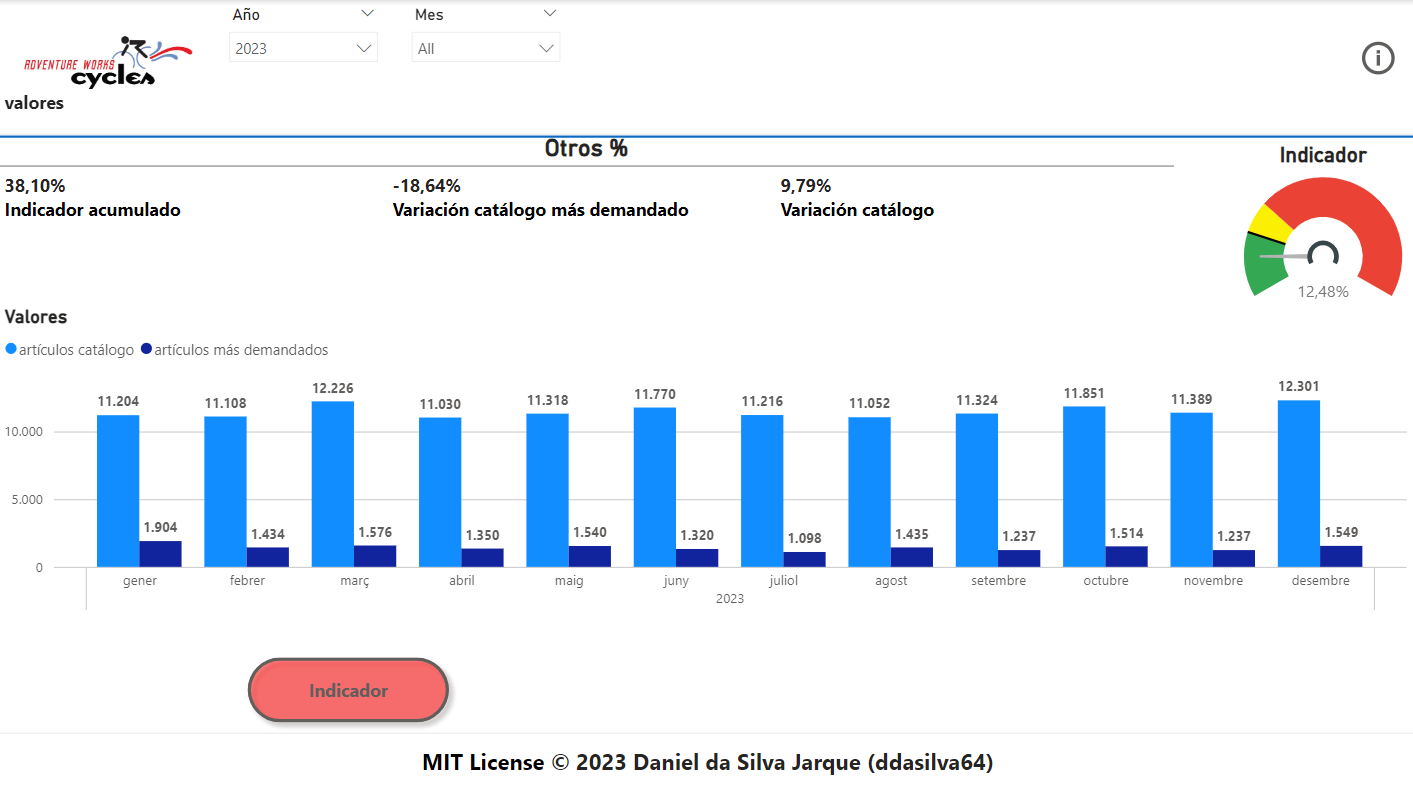

Layout of this report page (visuals, bound fields, positions):
{"tool":"powerbi","page":{"name":"Porcentajes","canvas":[1280,720],"ordinal":0},"visuals":[{"type":"image","title":"imgLogo","box":[0,0,198,119],"z":0,"group":"g5"},{"type":"shape","title":"shpLinia","box":[0,118,1280,12],"z":0,"group":"g7"},{"type":"eaTachometer6616D82ED23A4C048E1D3CD4604742ED","title":"Indicador","fields":{"EndValue":["Metrics.LTV Max"],"Range2StartValue":["Metrics.LTV rang 1"],"Range3StartValue":["Metrics.LTV rang 2"],"Range4StartValue":["Metrics.LTV rang 3"],"TargetValue":["Metrics.LTV target"],"Y":["Metrics.Media Indicador"]},"box":[1114.1,129,166,161.6],"z":0,"group":"g8"},{"type":"group","id":"g1","title":"Bottons","box":[216,585.6,847.2,78.1],"z":0,"group":"g4"},{"type":"group","id":"g2","title":"Foot","box":[0,666,1280,52.9],"z":0},{"type":"textbox","title":"txtLlicesncia","box":[0,666,1280,52.9],"z":0,"group":"g2"},{"type":"group","id":"g3","title":"Filtros","box":[362.5,0,154.5,65.1],"z":1000,"group":"g7"},{"type":"group","id":"g4","title":"Body","box":[0,121,1280.1,542.7],"z":1000},{"type":"multiRowCard","title":"Otros %","fields":{"Values":["Metrics.Media indicadox","Metrics.Variación catálogo más demandado","Metrics.Variación catálogo"]},"box":[0,121,1062.5,97],"z":1000,"group":"g8"},{"type":"actionButton","title":"btnGoToValores","box":[864,585.7,199.2,78],"z":1000,"group":"g1"},{"type":"group","id":"g5","title":"Identificacion","box":[0,0,198,119],"z":2000,"group":"g7"},{"type":"group","id":"g6","title":"Filtros","box":[197.5,0,154.5,65.1],"z":2000},{"type":"slicer","fields":{"Values":["DimDates.Exercise"]},"box":[197.5,0,154.5,65.1],"z":2001,"group":"g6"},{"type":"slicer","fields":{"Values":["DimDates.ShortMonth"]},"box":[362.5,0,154.5,65.1],"z":2001,"group":"g3"},{"type":"group","id":"g7","title":"Head","box":[0,0,1280.5,130.1],"z":3000},{"type":"textbox","title":"txtIndicador","box":[0,75.6,197.9,32],"z":3000,"group":"g5"},{"type":"actionButton","box":[1227,32.5,41.8,39.5],"z":4000},{"type":"group","id":"g8","title":"Fix","box":[0,121,1280.1,169.6],"z":7000,"group":"g4"},{"type":"clusteredColumnChart","title":"Indicador","fields":{"Y":["Sum(CSV_HechosAgregado.Indicador)"],"Category":["CSV_HechosAgregado.fecha.Variation.Jerarquia de dates.Any","CSV_HechosAgregado.fecha.Variation.Jerarquia de dates.Mes"]},"box":[0,275.6,1280,289.7],"z":8000,"group":"g4"}]}

Visuals, with their boxes in screenshot pixels (x1, y1, x2, y2), scaled from the page's 1280x720 canvas onto the 1413x796 screenshot:
"imgLogo" image: Rect(0, 0, 219, 132)
"shpLinia" shape: Rect(0, 130, 1412, 144)
"Indicador" eaTachometer6616D82ED23A4C048E1D3CD4604742ED: Rect(1230, 143, 1412, 321)
"Bottons" group: Rect(238, 647, 1174, 734)
"Foot" group: Rect(0, 736, 1412, 795)
"txtLlicesncia" textbox: Rect(0, 736, 1412, 795)
"Filtros" group: Rect(400, 0, 571, 72)
"Body" group: Rect(0, 134, 1412, 734)
"Otros %" multiRowCard: Rect(0, 134, 1173, 241)
"btnGoToValores" actionButton: Rect(954, 648, 1174, 734)
"Identificacion" group: Rect(0, 0, 219, 132)
"Filtros" group: Rect(218, 0, 389, 72)
slicer - DimDates.Exercise: Rect(218, 0, 389, 72)
slicer - DimDates.ShortMonth: Rect(400, 0, 571, 72)
"Head" group: Rect(0, 0, 1412, 144)
"txtIndicador" textbox: Rect(0, 84, 218, 119)
actionButton: Rect(1354, 36, 1401, 80)
"Fix" group: Rect(0, 134, 1412, 321)
"Indicador" clusteredColumnChart: Rect(0, 305, 1412, 625)
